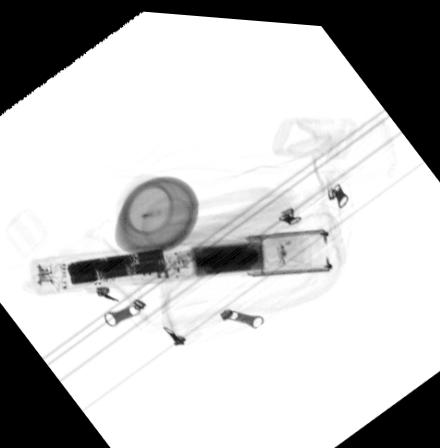Baton: (28, 220, 334, 296)
